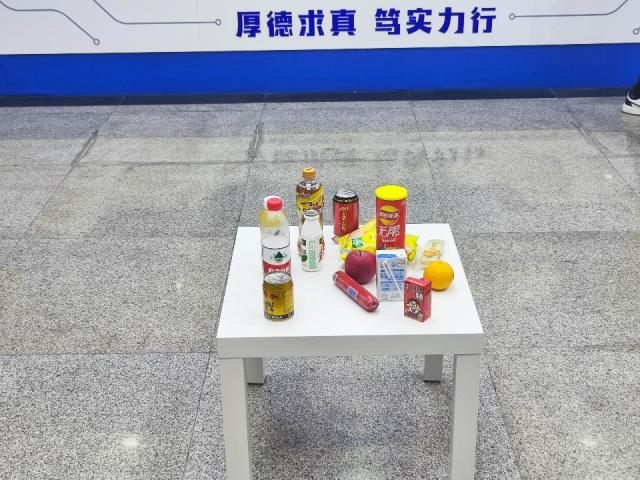Canned_drinks: (261, 270, 296, 321), (335, 187, 360, 238)
bottle: (262, 198, 292, 265)
cylinder: (376, 183, 408, 249)
drink_box: (380, 252, 406, 303), (406, 275, 431, 322)
